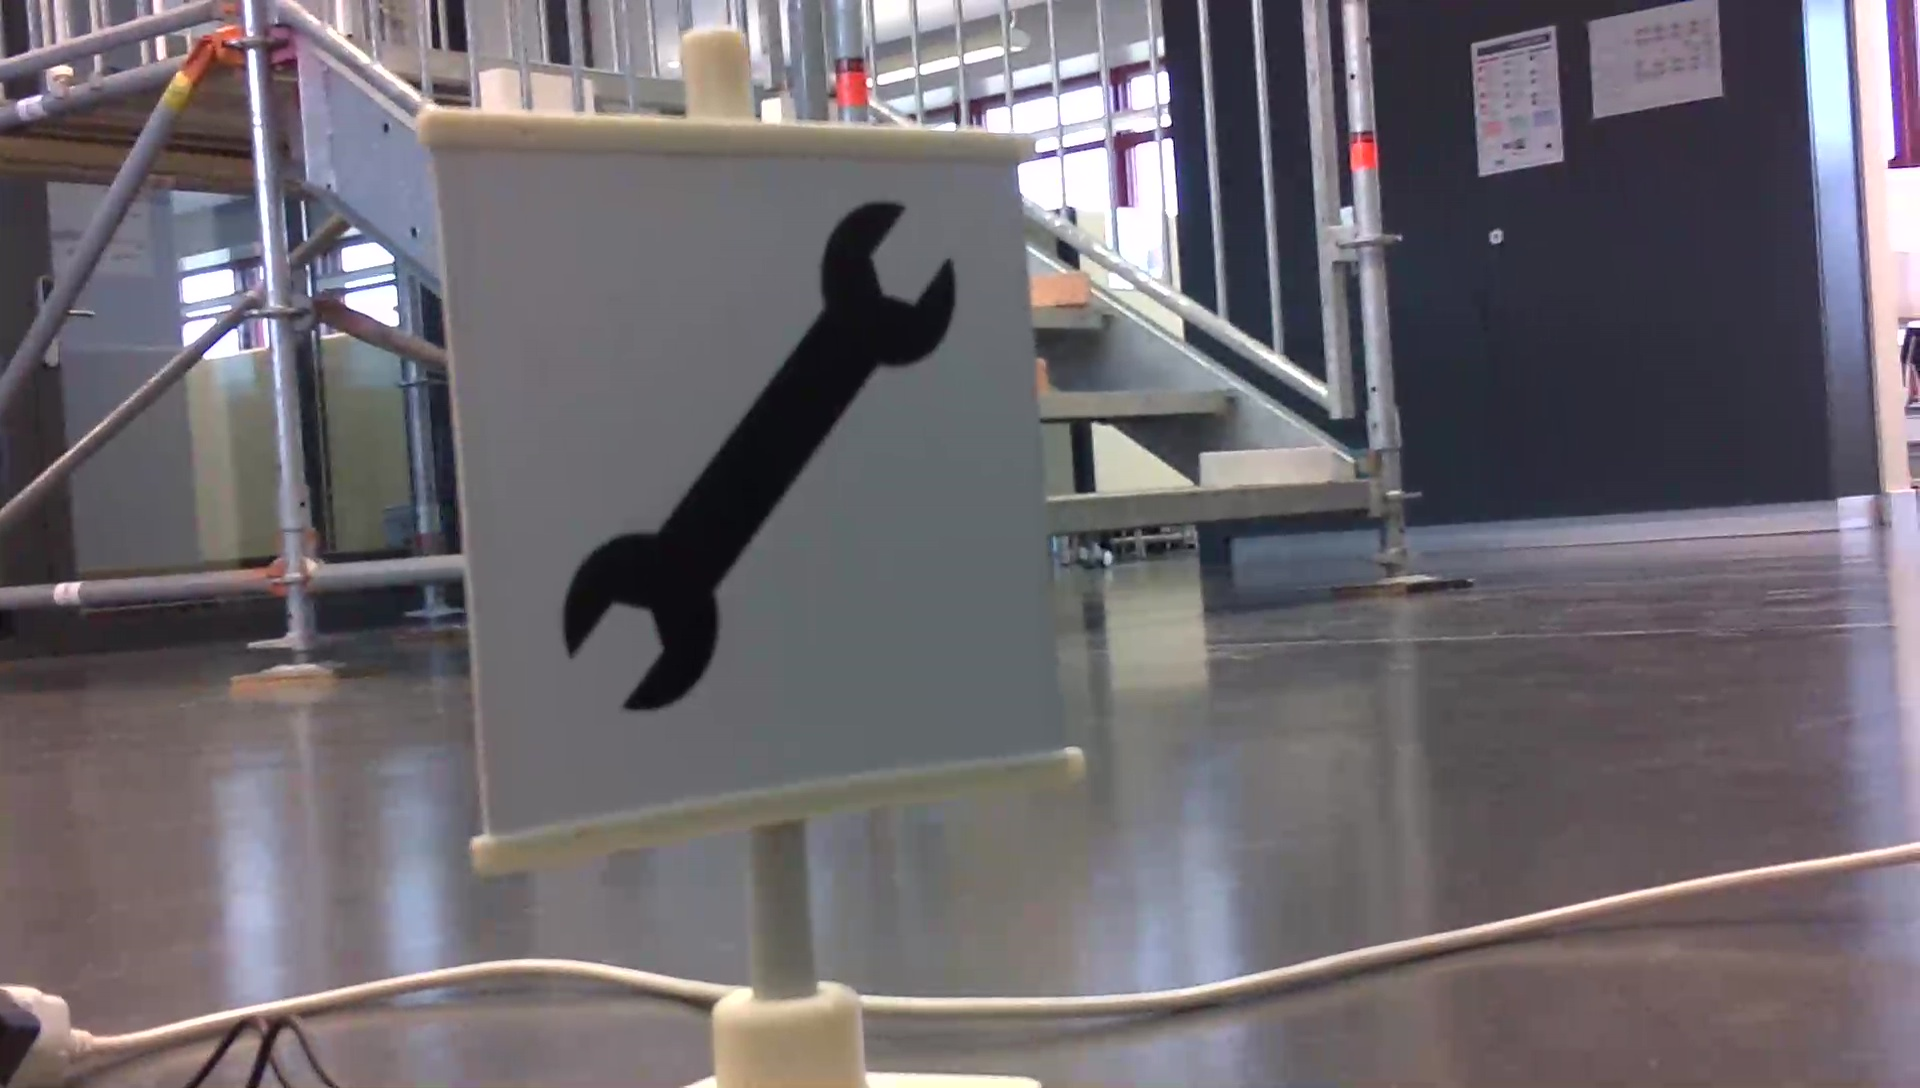brick: (1197, 447, 1335, 483), (1030, 274, 1088, 306)
edge: (1050, 483, 1371, 533), (1040, 386, 1232, 415)
wrench: (550, 189, 971, 721)
